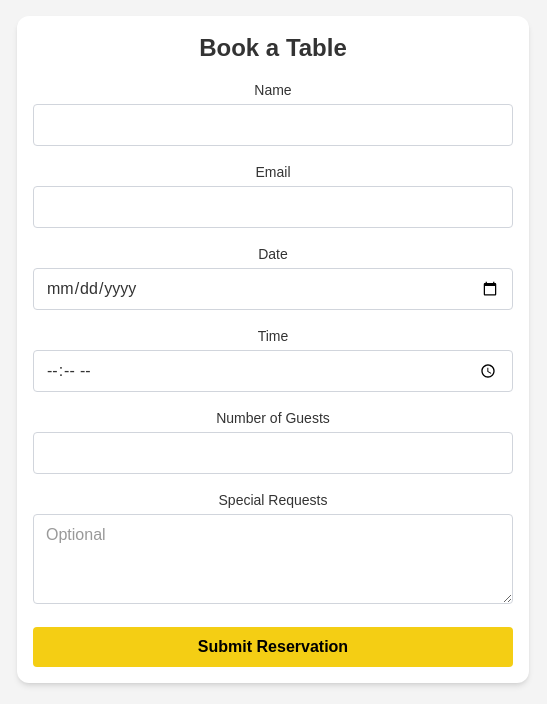
it: BookingForm › shows error for invalid email
Type "invalid" into the field labelled "Email" at (273,207), box [33,186,513,228]
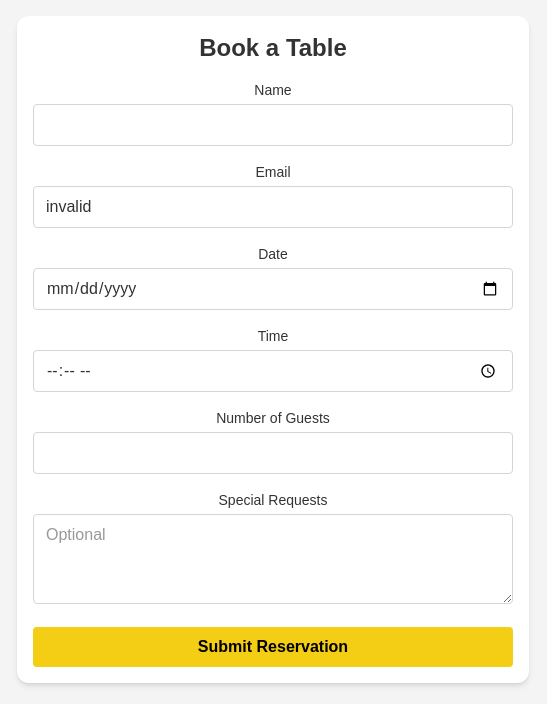
Click the button "Submit Reservation" at (273,647), box [33,627,513,667]
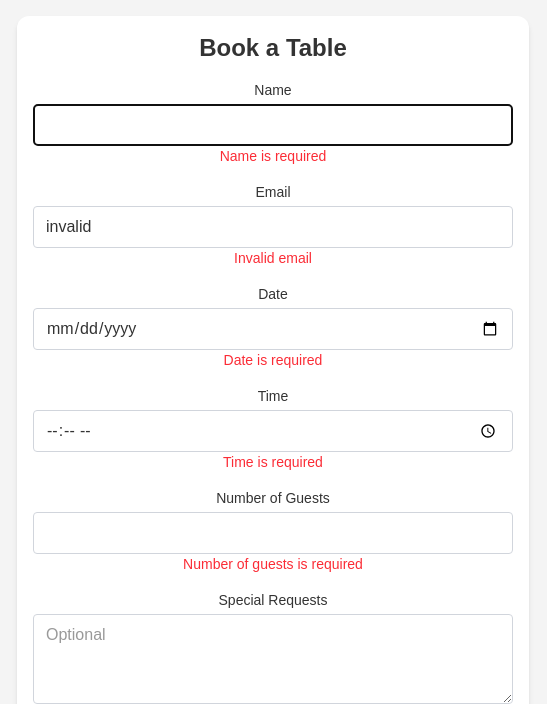
Expected: the text "Invalid email" is shown, [234,250,312,266]
